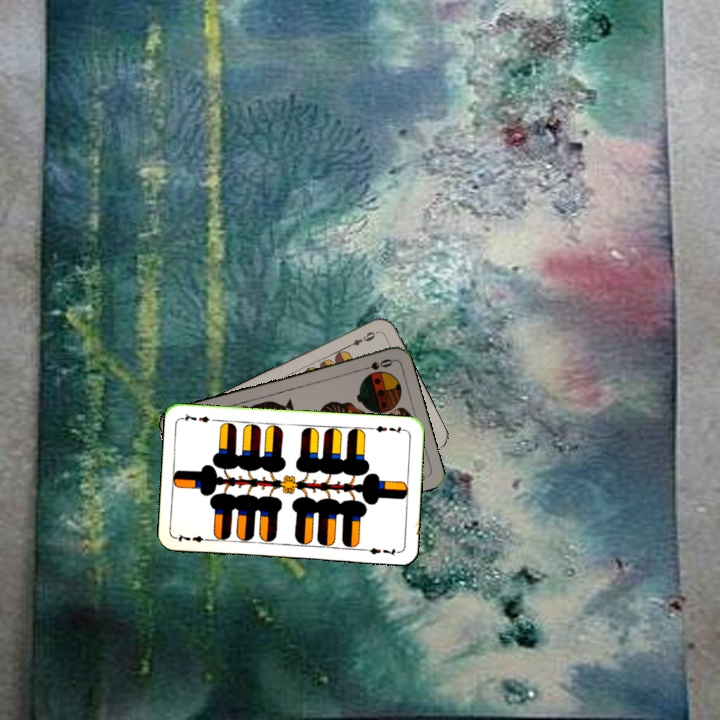E7: (173, 530, 213, 545), (368, 422, 408, 436)
E9: (342, 327, 380, 351)
SO: (355, 355, 395, 374)
